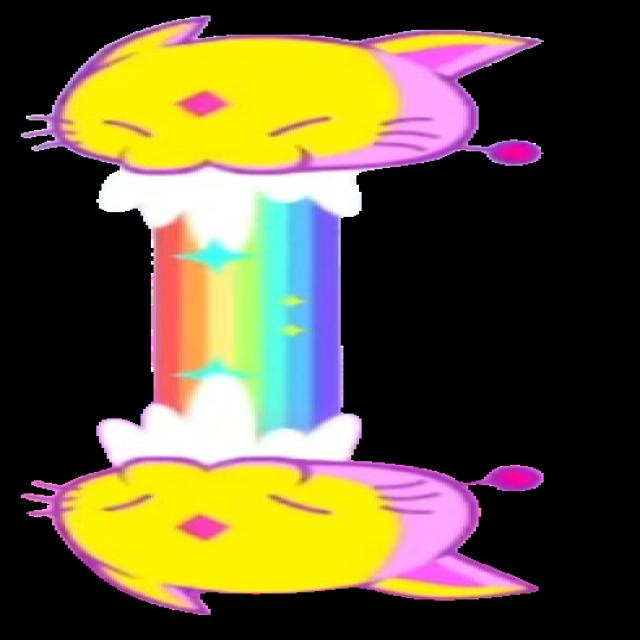Two-Faced Monster: (0, 0, 640, 627)
